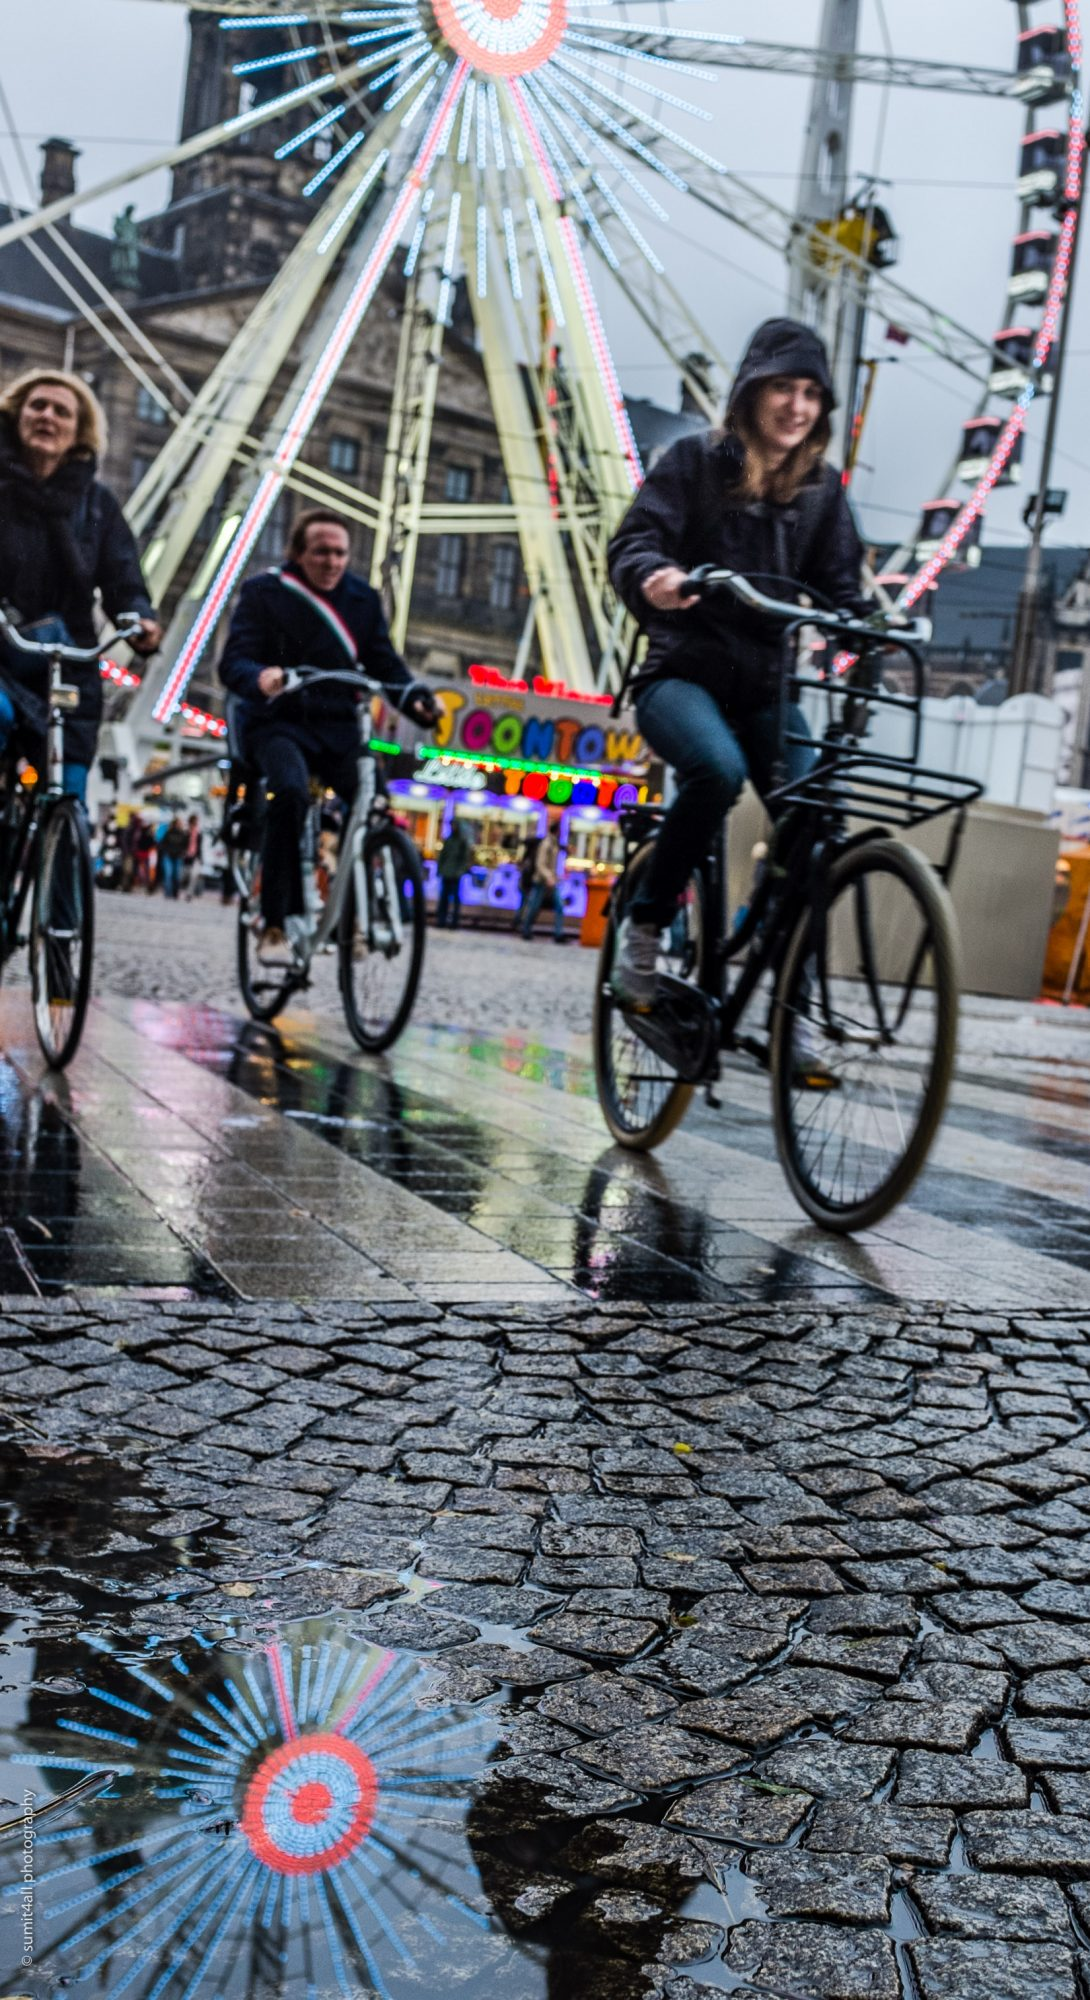commuter: (583, 318, 981, 1240), (192, 507, 438, 1056), (1, 356, 170, 1070)
